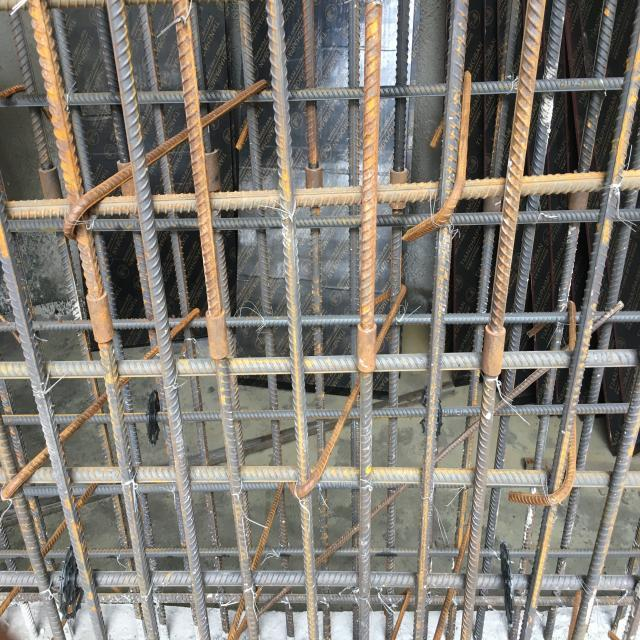ribbed bar: (25, 0, 162, 637), (5, 8, 144, 620), (520, 0, 640, 638), (507, 0, 622, 640), (51, 9, 168, 624), (105, 0, 213, 640), (473, 0, 570, 640), (136, 0, 231, 633), (172, 0, 262, 639), (459, 0, 547, 640), (0, 166, 108, 639), (541, 126, 639, 640), (445, 0, 522, 640), (235, 0, 295, 640), (263, 0, 320, 637), (413, 0, 469, 640), (8, 171, 640, 222), (6, 345, 630, 387), (0, 76, 623, 109), (1, 306, 638, 337), (569, 360, 639, 640), (300, 0, 329, 639), (355, 0, 383, 640), (11, 206, 640, 234), (7, 401, 625, 428), (385, 0, 410, 640), (32, 466, 638, 492), (1, 408, 68, 640), (0, 570, 640, 593), (346, 0, 364, 637)
